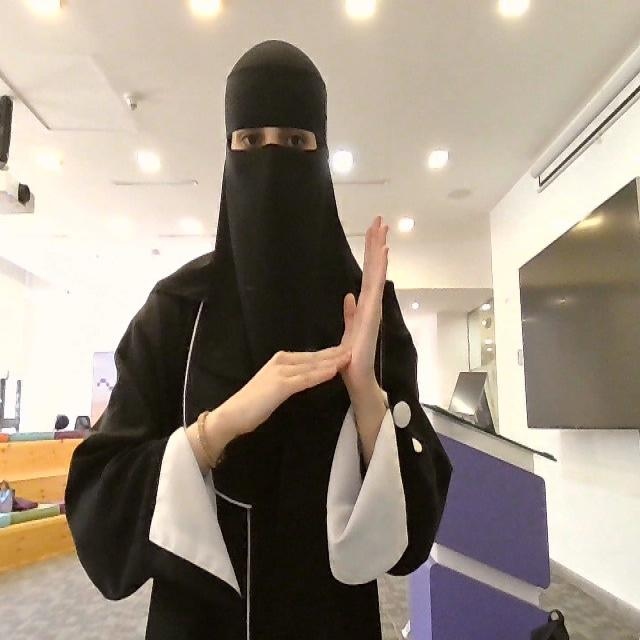complaint: (206, 213, 396, 468)
